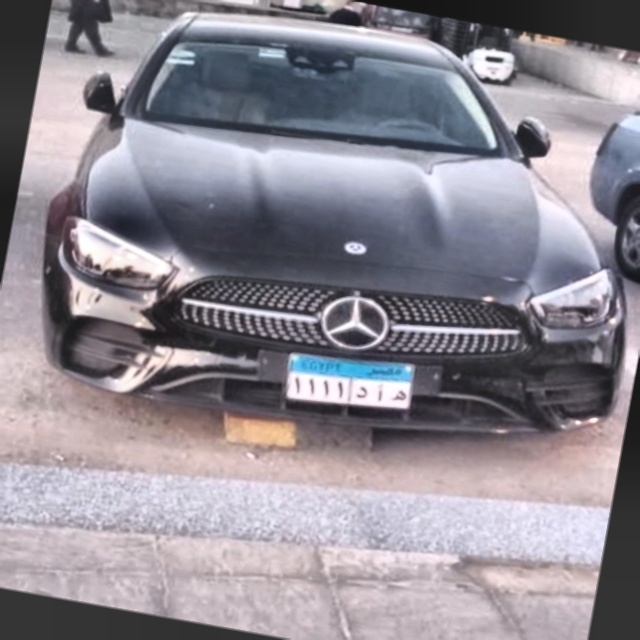License Plate: (280, 339, 425, 425)
